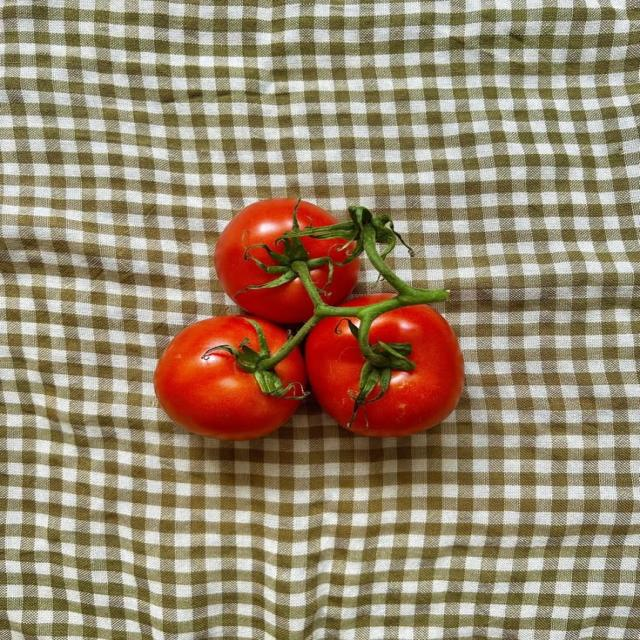tomato: (155, 316, 299, 439), (351, 305, 464, 437), (214, 198, 314, 324)
